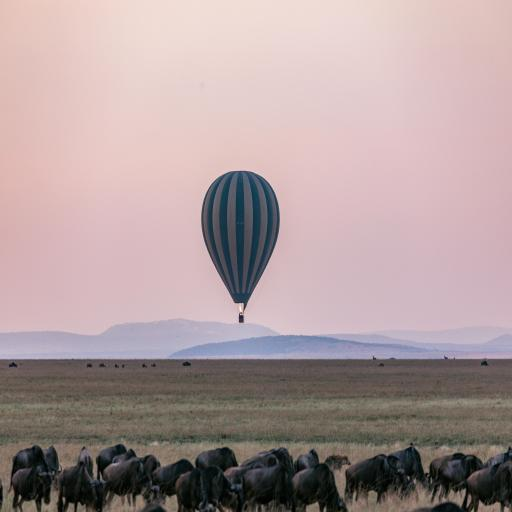hot air ballon: (200, 166, 280, 322)
